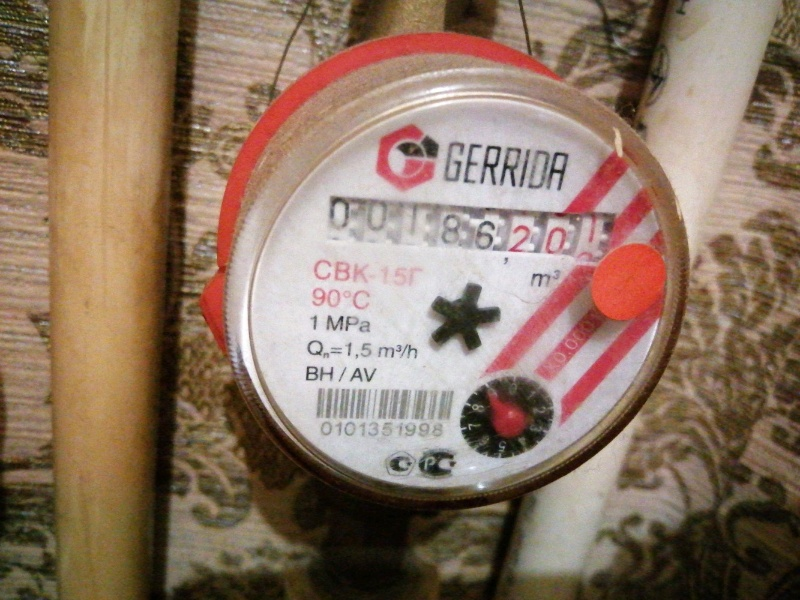dial: (315, 195, 604, 248)
